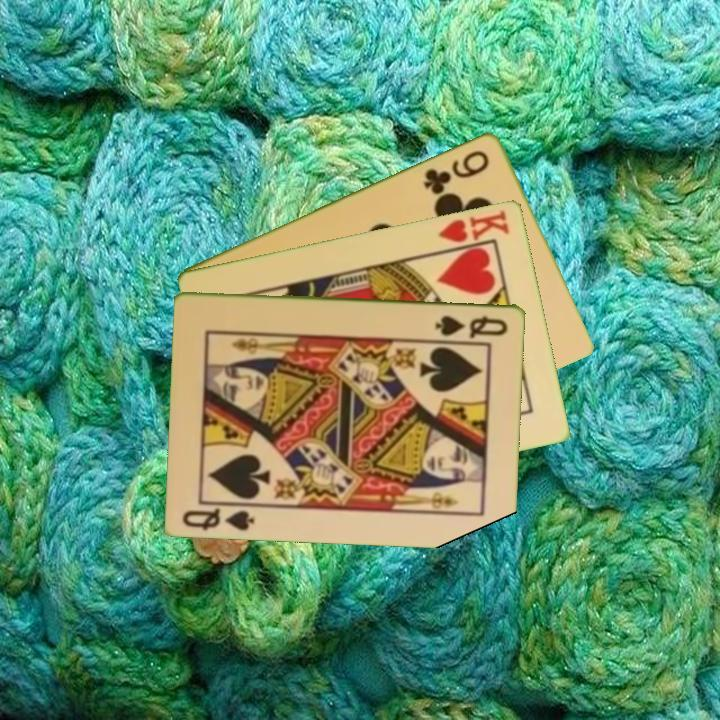9c: (420, 145, 493, 195)
Kh: (434, 206, 513, 254)
Qs: (180, 499, 259, 533), (432, 311, 511, 339)
